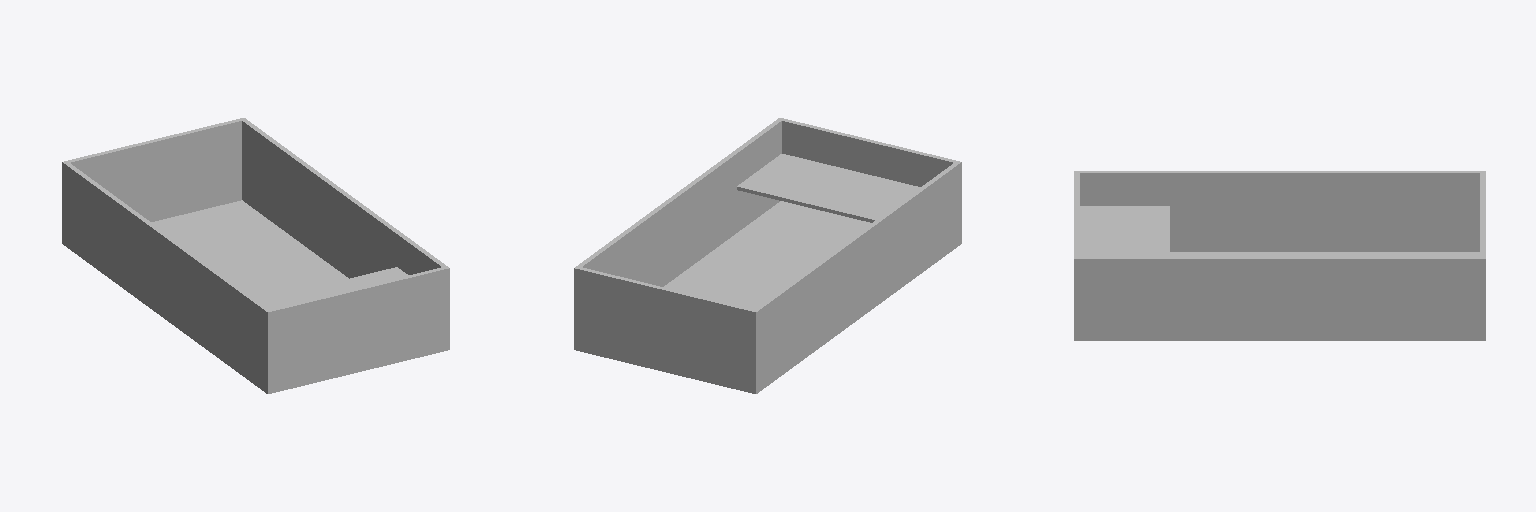
The model's file is cabin_01.obj.
The picture shows the model from 3 angles: view 1: azimuth 30°, elevation 25°; view 2: azimuth 150°, elevation 25°; view 3: azimuth 270°, elevation 25°; orthographic projection.
Visible parts, largest first — view 1: Cube; view 2: Cube; view 3: Cube.
Part boxes in pixels (left/top/right/bottom): Cube: left=62, top=118, right=449, bottom=393; Cube: left=574, top=118, right=961, bottom=393; Cube: left=1074, top=171, right=1485, bottom=340.
Size of the model in its own units: 15.42 by 6.63 by 30.18.